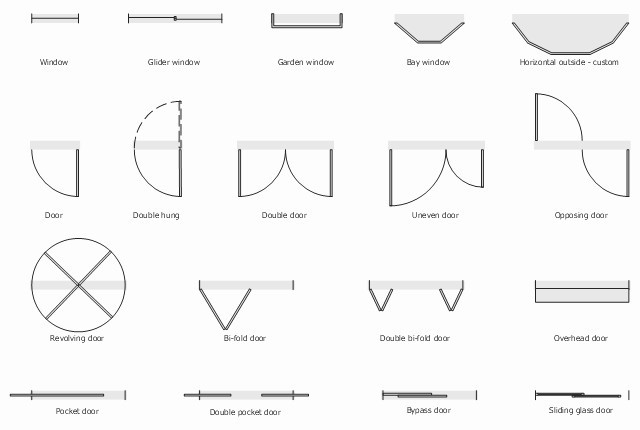door: (536, 90, 628, 204), (28, 233, 128, 333), (129, 92, 183, 200), (390, 149, 482, 209), (239, 149, 332, 202), (24, 151, 77, 199), (580, 150, 627, 200), (132, 98, 184, 139), (198, 290, 250, 331), (437, 292, 465, 315), (368, 292, 395, 314)
